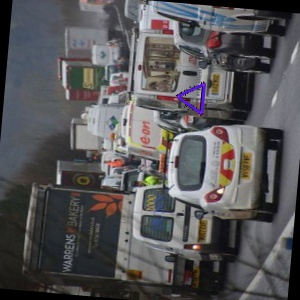triangle: (173, 77, 209, 119)
